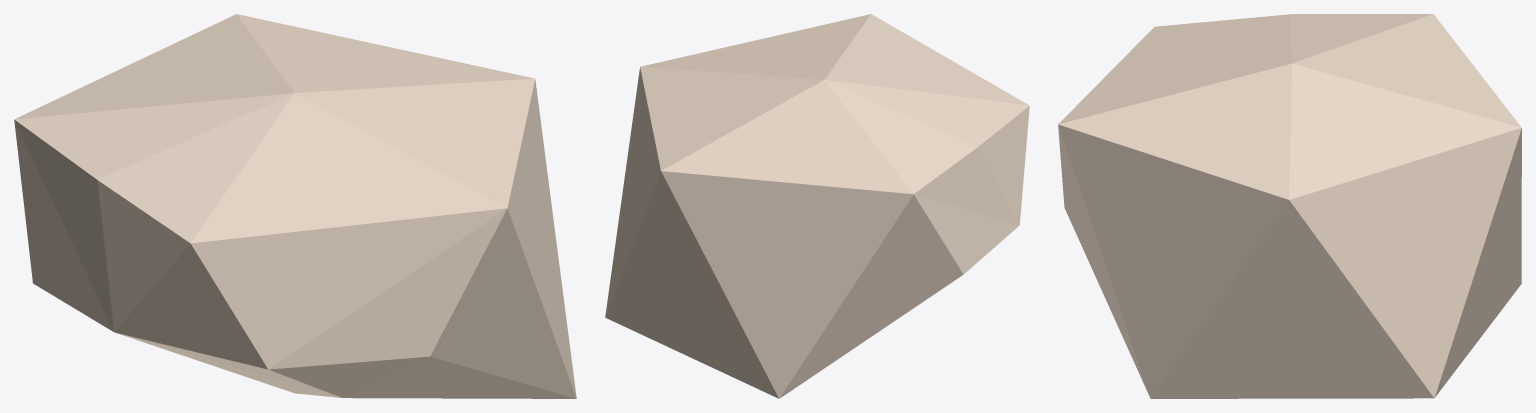
File: Rock_01.FBX
The picture shows the model from 3 angles, left to right: view 1: azimuth 30°, elevation 25°; view 2: azimuth 150°, elevation 25°; view 3: azimuth 270°, elevation 25°; orthographic projection. The views are drawn at different scales.
Visible parts, largest first — view 1: Rock_01; view 2: Rock_01; view 3: Rock_01.
Boxes of the visible parts, x1,y1,x2,y2 form: Rock_01: [14, 14, 576, 398]; Rock_01: [605, 14, 1029, 398]; Rock_01: [1058, 14, 1521, 398].
Size of the model in its own units: 0.8556 by 0.5346 by 0.8734.
